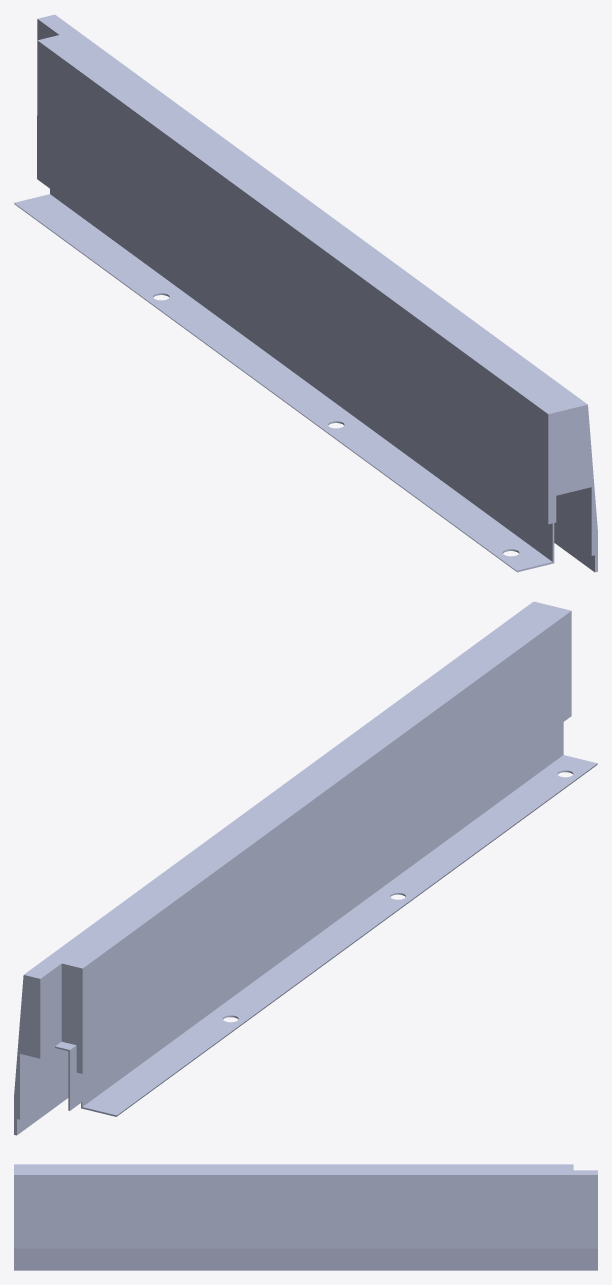
Rendered from mv-kava-N400-m.glb.
The picture shows the model from 3 angles, top to bottom: view 1: azimuth 30°, elevation 25°; view 2: azimuth 150°, elevation 25°; view 3: azimuth 270°, elevation 25°; orthographic projection. The views are drawn at different scales.
Parts seen in each view (by area): view 1: 48521204; view 2: 48521204; view 3: 48521204.
Boxes of the visible parts, x1,y1,x2,y2 form: 48521204: (14,14,597,572); 48521204: (14,601,597,1135); 48521204: (14,1164,597,1270).
Size of the model in its own units: 0.0335 by 0.0685 by 0.3902.
